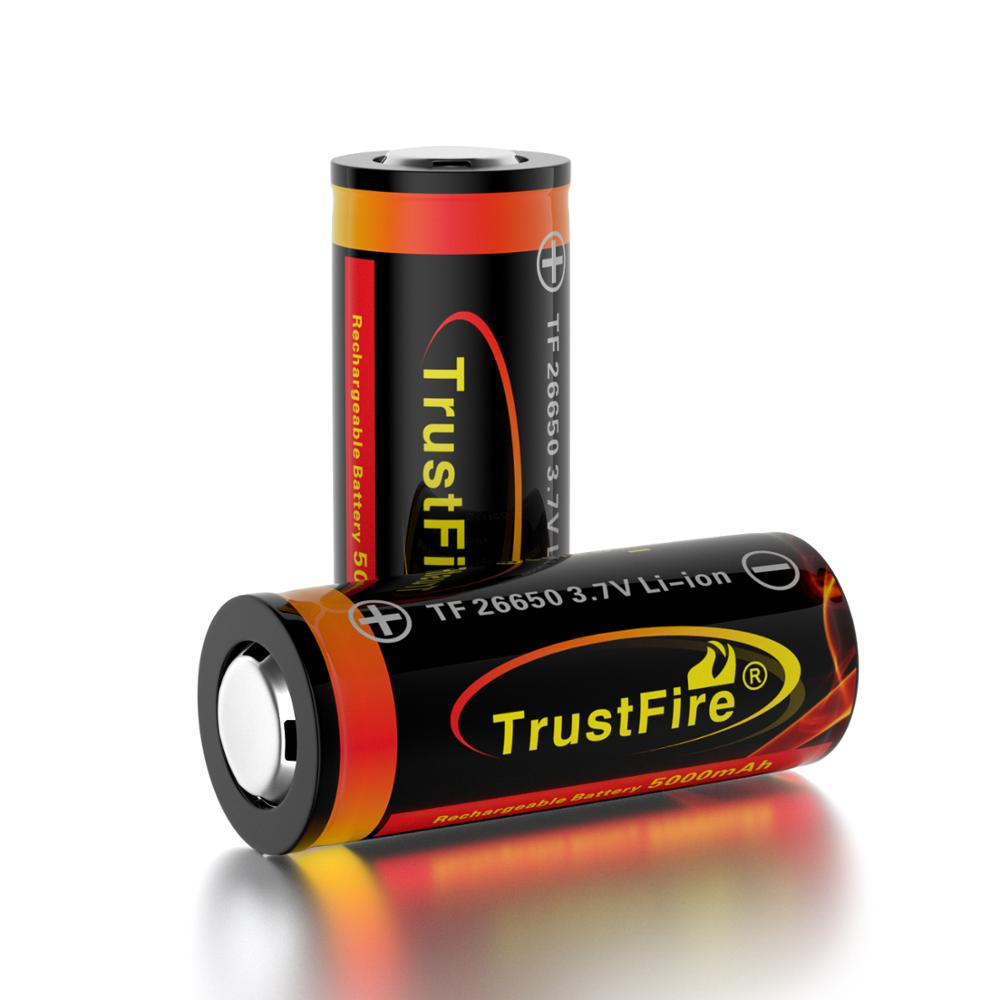Battery: (194, 530, 862, 860), (329, 147, 575, 580)
